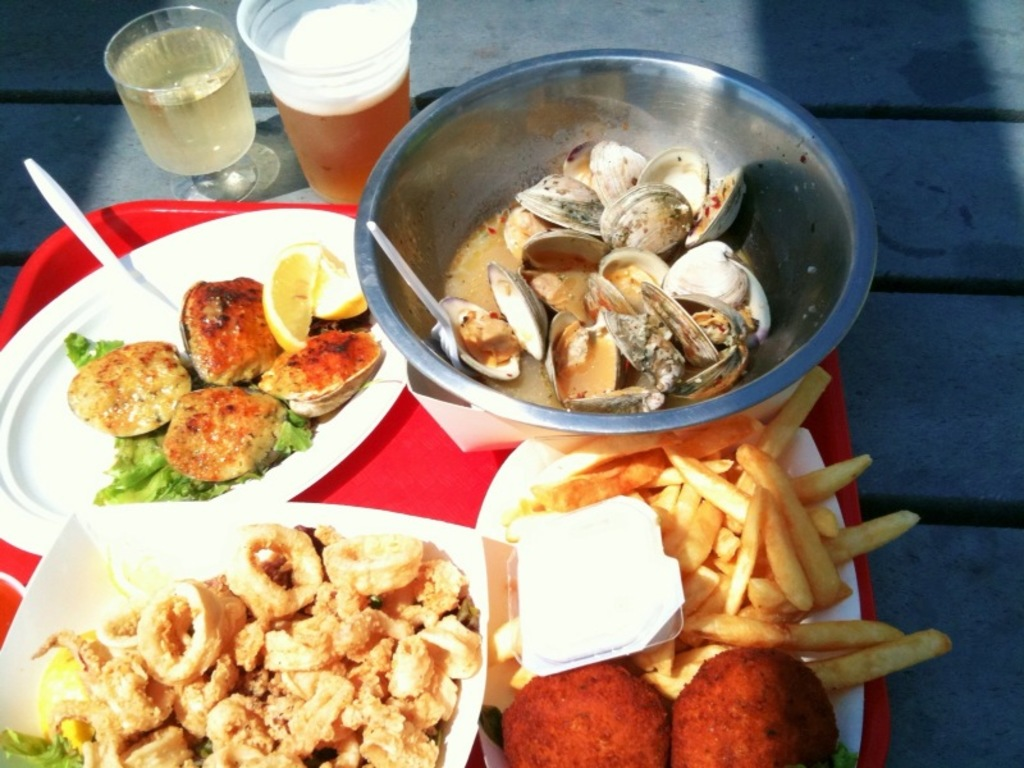French fries: (574, 418, 933, 706)
